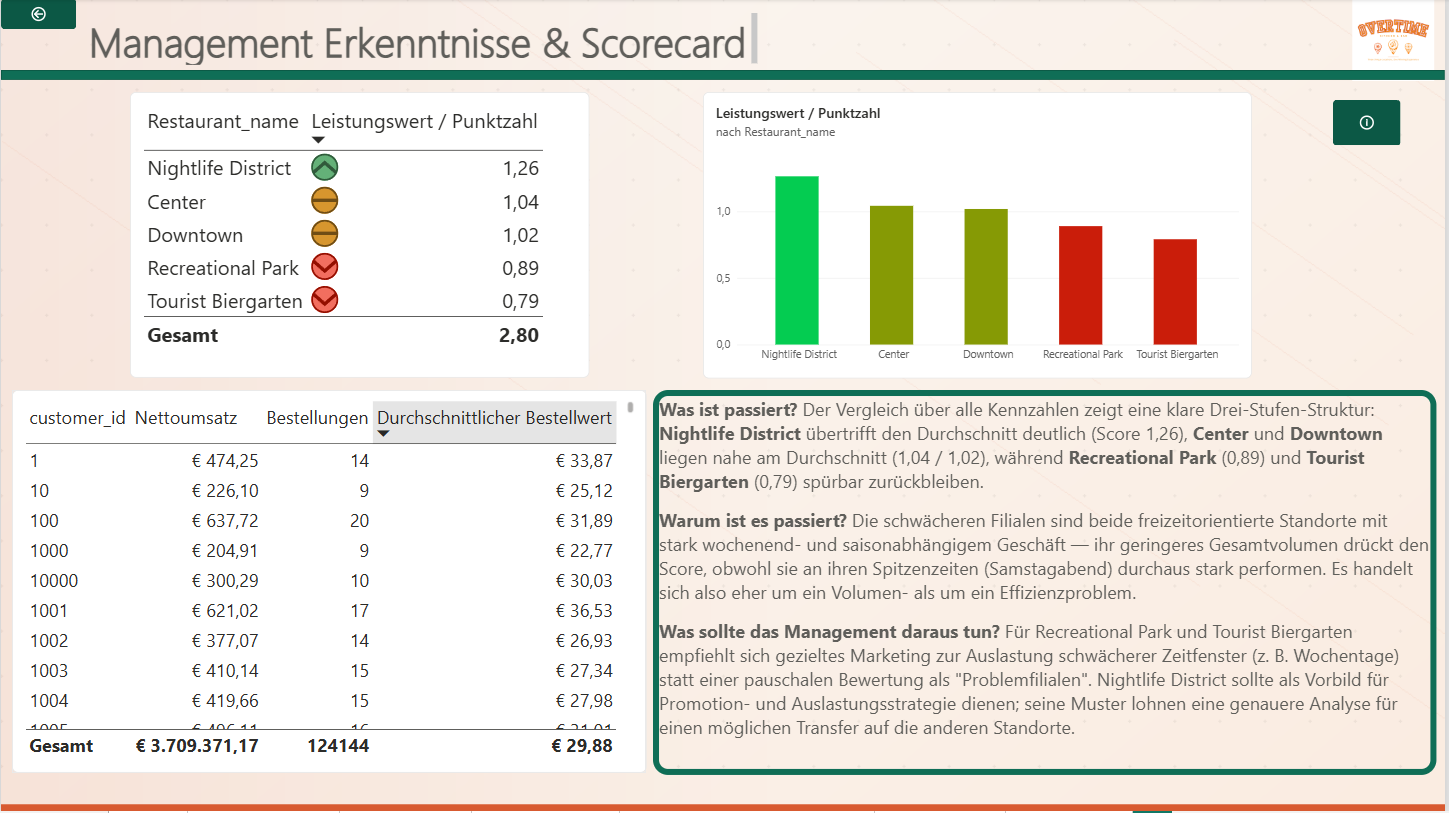

The page's visual inventory and layout, read from the dashboard file:
{"tool":"powerbi","page":{"name":"Management-Erkenntnisse & Scorecard","canvas":[1920,1080],"ordinal":4},"visuals":[{"type":"image","box":[1781.7,0,138.3,109.1],"z":0},{"type":"textbox","box":[117.7,18.4,889.1,69.5],"z":1000},{"type":"shape","box":[0,94.4,1920,13.3],"z":2000},{"type":"actionButton","box":[0,0,100,40],"z":3000},{"type":"tableEx","fields":{"Values":["dim_restaurants.Restaurant_name","DAX Formula.Performance Score"]},"box":[171.6,123.4,611.2,380],"z":4000},{"type":"clusteredColumnChart","fields":{"Category":["dim_restaurants.Restaurant_name"],"Y":["DAX Formula.Performance Score"]},"box":[933.1,123.4,729.6,380.9],"z":5000},{"type":"textbox","box":[867.8,520.4,1042.2,511.9],"z":6000},{"type":"tableEx","fields":{"Values":["fact_order_header_2026.customer_id","DAX Formula.Net Sales","DAX Formula.Orders","DAX Formula.Average Order Value"]},"box":[14.2,520.4,843.7,509.1],"z":7000},{"type":"actionButton","box":[1771.1,134.7,89.9,60.4],"z":8000}]}

Visuals, with their boxes in screenshot pixels (x1, y1, x2, y2), scaled from the page's 1920x1080 canvas onto the 1449x813 screenshot:
image: <region>1345, 0, 1448, 82</region>
textbox: <region>89, 14, 760, 66</region>
shape: <region>0, 71, 1448, 81</region>
actionButton: <region>0, 0, 75, 30</region>
tableEx - dim_restaurants.Restaurant_name x DAX Formula.Performance Score: <region>130, 93, 591, 379</region>
clusteredColumnChart - dim_restaurants.Restaurant_name x DAX Formula.Performance Score: <region>704, 93, 1255, 380</region>
textbox: <region>655, 392, 1441, 777</region>
tableEx - fact_order_header_2026.customer_id x DAX Formula.Net Sales: <region>11, 392, 647, 775</region>
actionButton: <region>1337, 101, 1404, 147</region>
